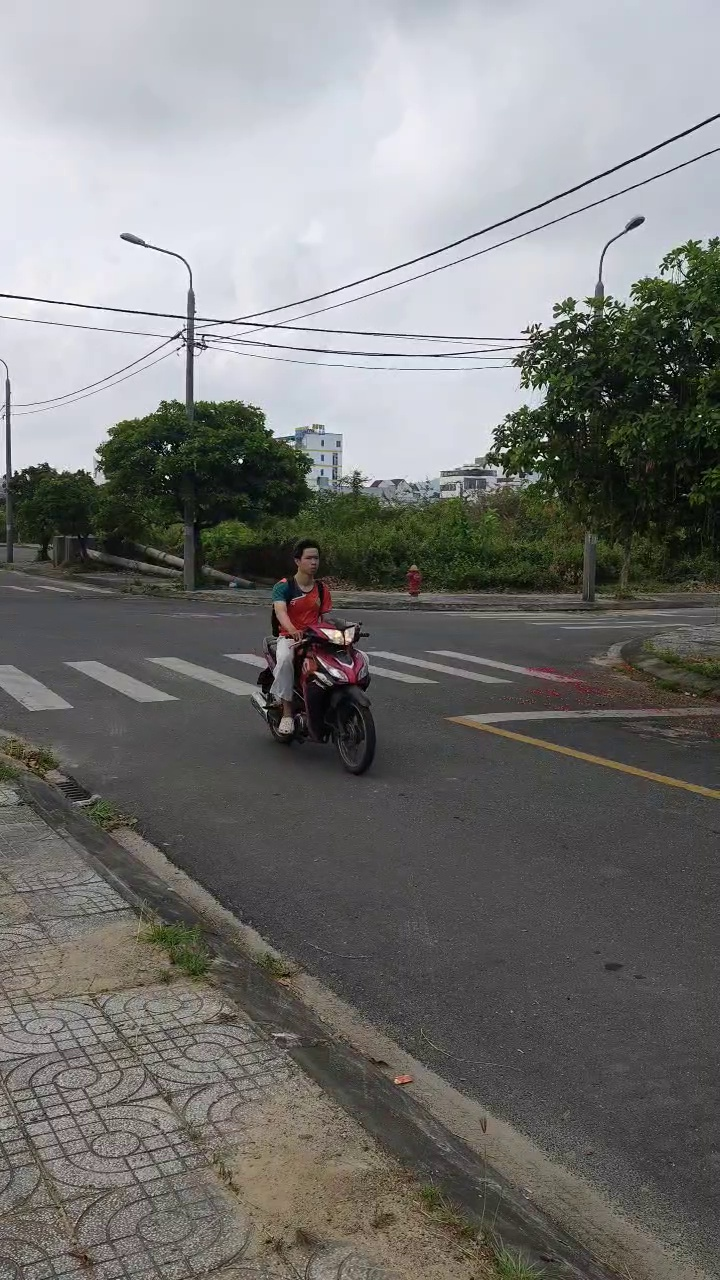without_helmet: (292, 540, 322, 583)
